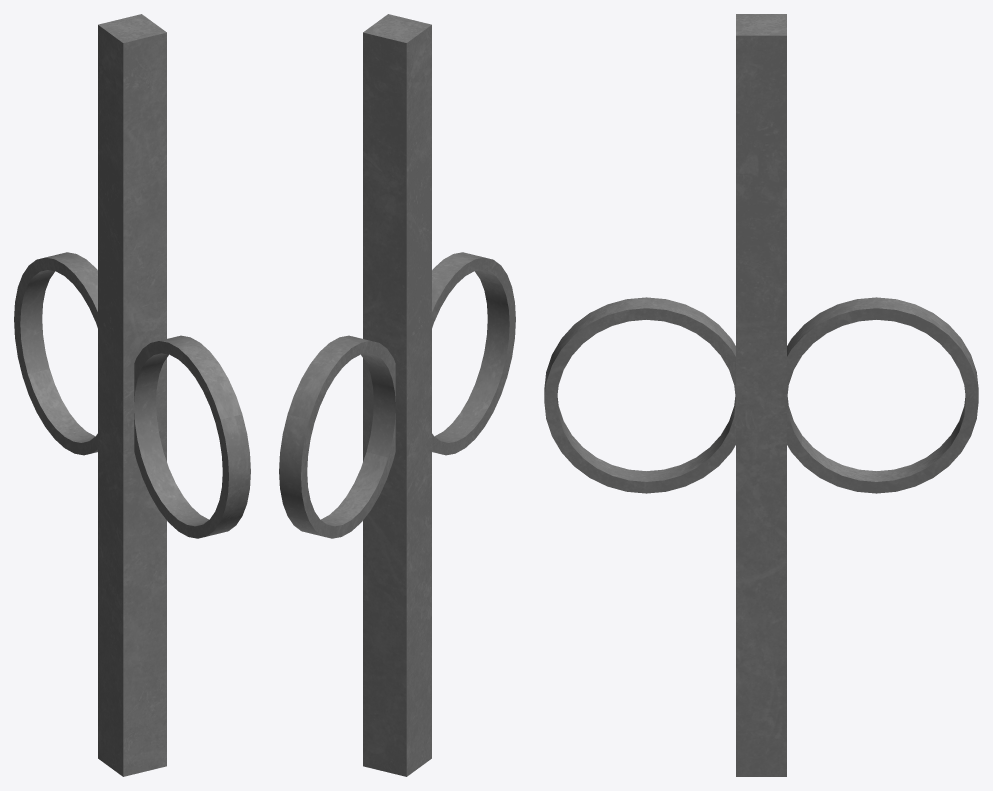
The model's file is pylon.fbx.
3 renders of one model, left to right at view 1: azimuth 30°, elevation 25°; view 2: azimuth 150°, elevation 25°; view 3: azimuth 270°, elevation 25°, orthographic.
Parts seen in each view (by area): view 1: OVERWORLD_pylon; view 2: OVERWORLD_pylon; view 3: OVERWORLD_pylon.
Part boxes in pixels (x1,y1,x2,y2): OVERWORLD_pylon: [14, 14, 250, 776]; OVERWORLD_pylon: [279, 14, 515, 776]; OVERWORLD_pylon: [544, 14, 978, 776].
Bounding box in the file's own units: 2 × 32 × 17.
Materials: 1 (1 with a texture image).
